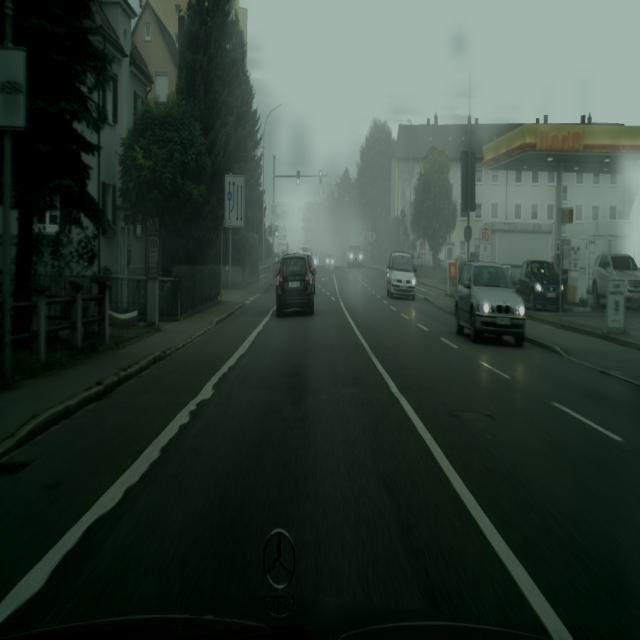person: (454, 261, 526, 346), (590, 252, 640, 309), (516, 258, 563, 312), (276, 255, 315, 317), (386, 251, 417, 299)
